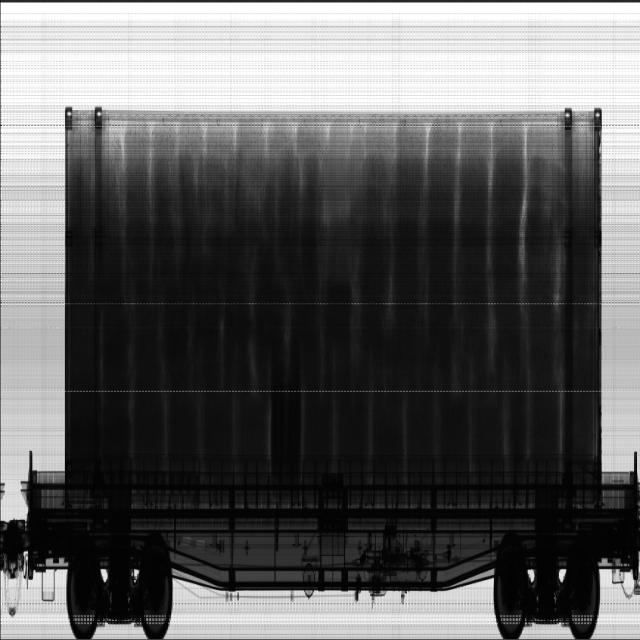textile: (68, 122, 591, 464)
